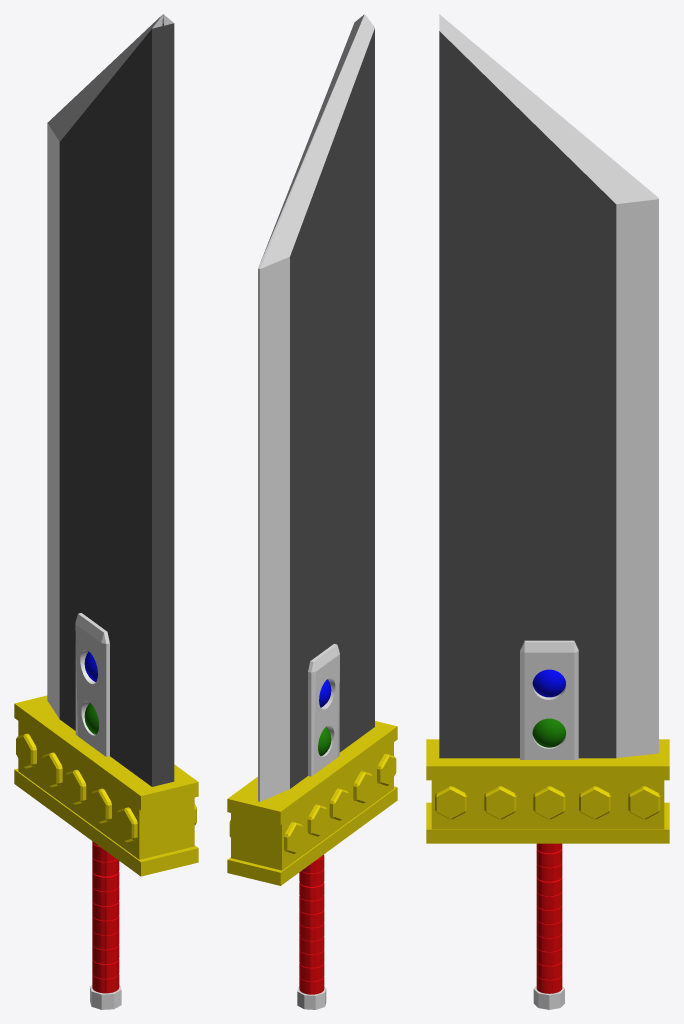
The model's file is SwordLv3.fbx.
3 renders of one model, left to right at view 1: azimuth 30°, elevation 25°; view 2: azimuth 150°, elevation 25°; view 3: azimuth 270°, elevation 25°, orthographic. The views are drawn at different scales.
Visible parts, largest first — view 1: 立方体.001, 立方体, 立方体.002, 円柱.011, 立方体.004, 立方体.003, 円, 円.002; view 2: 立方体.001, 立方体, 立方体.002, 円柱.011, 立方体.004, 立方体.003, 円, 円.002; view 3: 立方体.001, 立方体, 立方体.002, 立方体.004, 円, 円柱.011, 立方体.003, 球, 球.001.
Boxes of the visible parts, <box> form: 立方体.001: <box>47,14,174,786</box>; 立方体: <box>18,721,194,859</box>; 立方体.002: <box>14,695,198,810</box>; 円柱.011: <box>92,841,119,993</box>; 立方体.004: <box>75,613,109,756</box>; 立方体.003: <box>14,768,198,876</box>; 円: <box>16,733,196,842</box>; 円.002: <box>90,984,121,1009</box>; 立方体.001: <box>258,14,374,801</box>; 立方体: <box>231,742,393,870</box>; 立方体.002: <box>227,721,397,824</box>; 円柱.011: <box>299,854,324,994</box>; 立方体.004: <box>308,644,339,776</box>; 立方体.003: <box>227,786,397,885</box>; 円: <box>229,753,396,853</box>; 円.002: <box>297,986,326,1009</box>; 立方体.001: <box>439,14,658,758</box>; 立方体: <box>431,780,664,829</box>; 立方体.002: <box>426,739,669,780</box>; 立方体.004: <box>520,640,578,759</box>; 円: <box>435,786,660,819</box>; 円柱.011: <box>536,843,562,993</box>; 立方体.003: <box>426,802,669,843</box>; 球: <box>532,718,565,747</box>; 球.001: <box>532,669,565,697</box>.
Bounding box in the file's own units: 0.7834 × 11.82 × 2.63.
